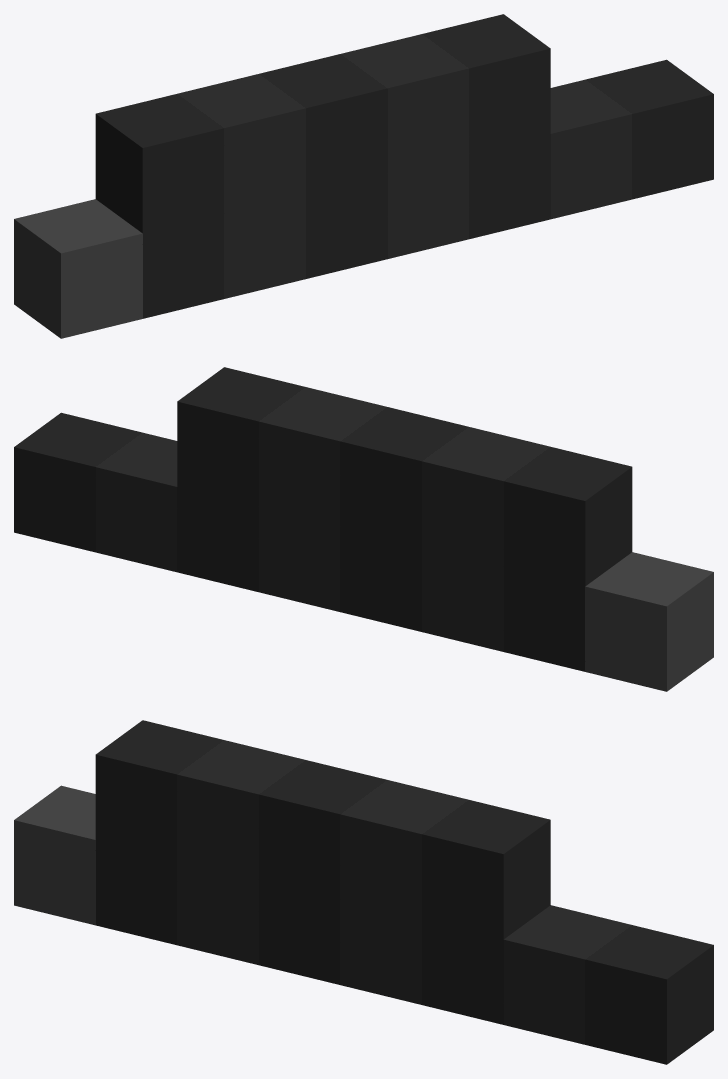
File: butterfly_body.fbx
3 views of the same model, one above another, from view 1: azimuth 30°, elevation 25°; view 2: azimuth 150°, elevation 25°; view 3: azimuth 330°, elevation 25° (orthographic).
Parts seen in each view (by area): view 1: butterfly_body; view 2: butterfly_body; view 3: butterfly_body.
Part boxes in pixels (box(x1,y1,x2,y2)): butterfly_body: box(14, 14, 713, 338); butterfly_body: box(14, 367, 713, 691); butterfly_body: box(14, 720, 713, 1064).
Size of the model in its own units: 8 by 2 by 1.
1 material, 1 textured.
